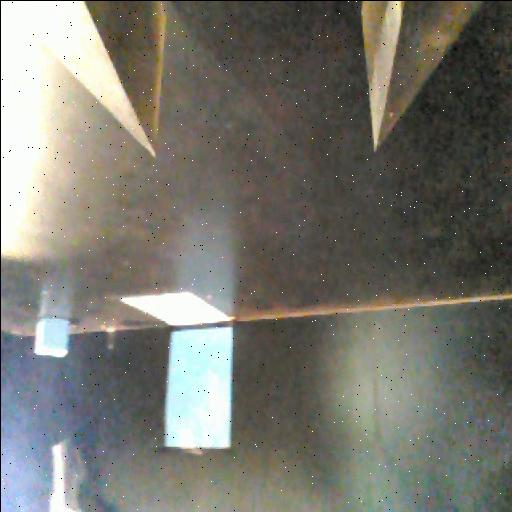cube: (30, 314, 72, 357)
